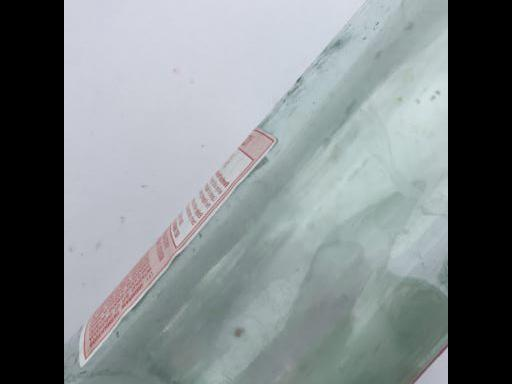glass: (64, 0, 447, 384)
sodocalcique: (64, 0, 447, 384)
